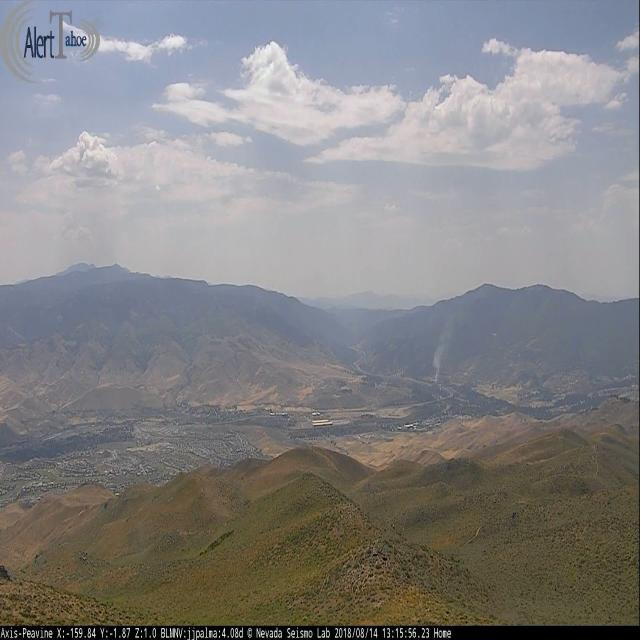smoke: (431, 329, 451, 383)
